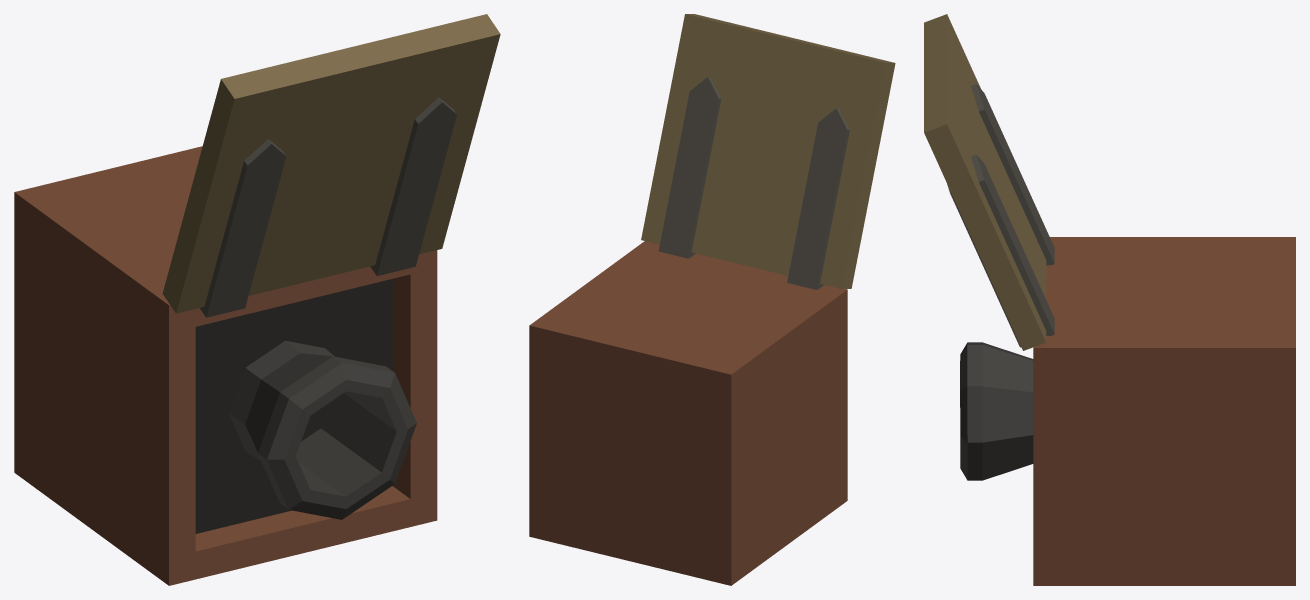
The model's file is ShipCannon_2.fbx.
3 views of the same model, side by side, from view 1: azimuth 30°, elevation 25°; view 2: azimuth 150°, elevation 25°; view 3: azimuth 270°, elevation 25° (orthographic). The views are drawn at different scales.
Visible parts, largest first — view 1: ShipCannon_2; view 2: ShipCannon_2; view 3: ShipCannon_2.
Boxes of the visible parts, bbox=[...] form: ShipCannon_2: bbox=[14, 14, 500, 585]; ShipCannon_2: bbox=[529, 14, 895, 585]; ShipCannon_2: bbox=[924, 14, 1295, 585].
Bounding box in the file's own units: 56.2 × 109 × 79.61.
